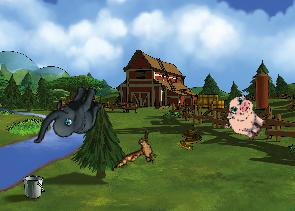eagle: (113, 124, 165, 181)
elephant: (32, 75, 106, 158)
pig: (217, 90, 273, 145)
